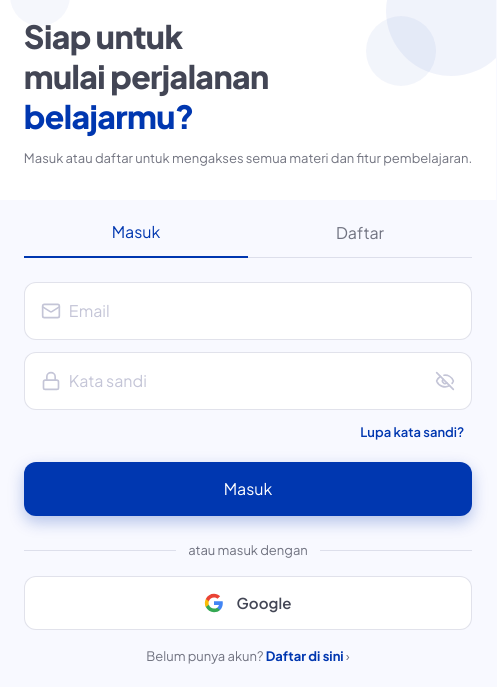
AuthScreen › submit kosong menampilkan pesan validasi
Click the button "Masuk".
click(248, 489)  # box [24,462,472,516]
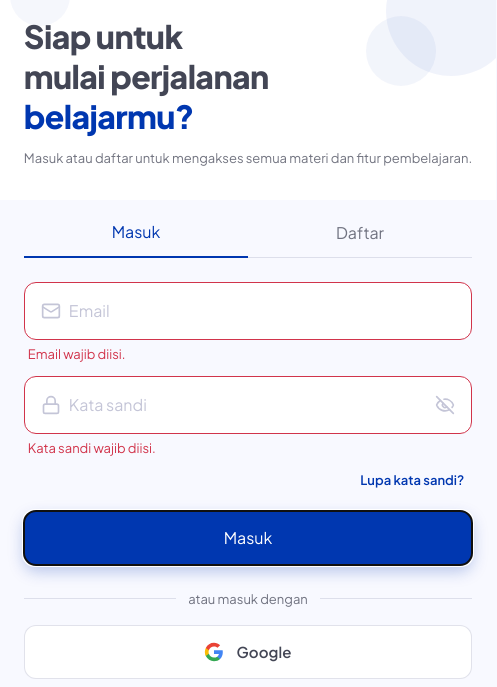
Expected: the text "Email wajib diisi." is shown, [28,346,126,362]
Expected: the text "Kata sandi wajib diisi." is shown, [28,440,156,456]
